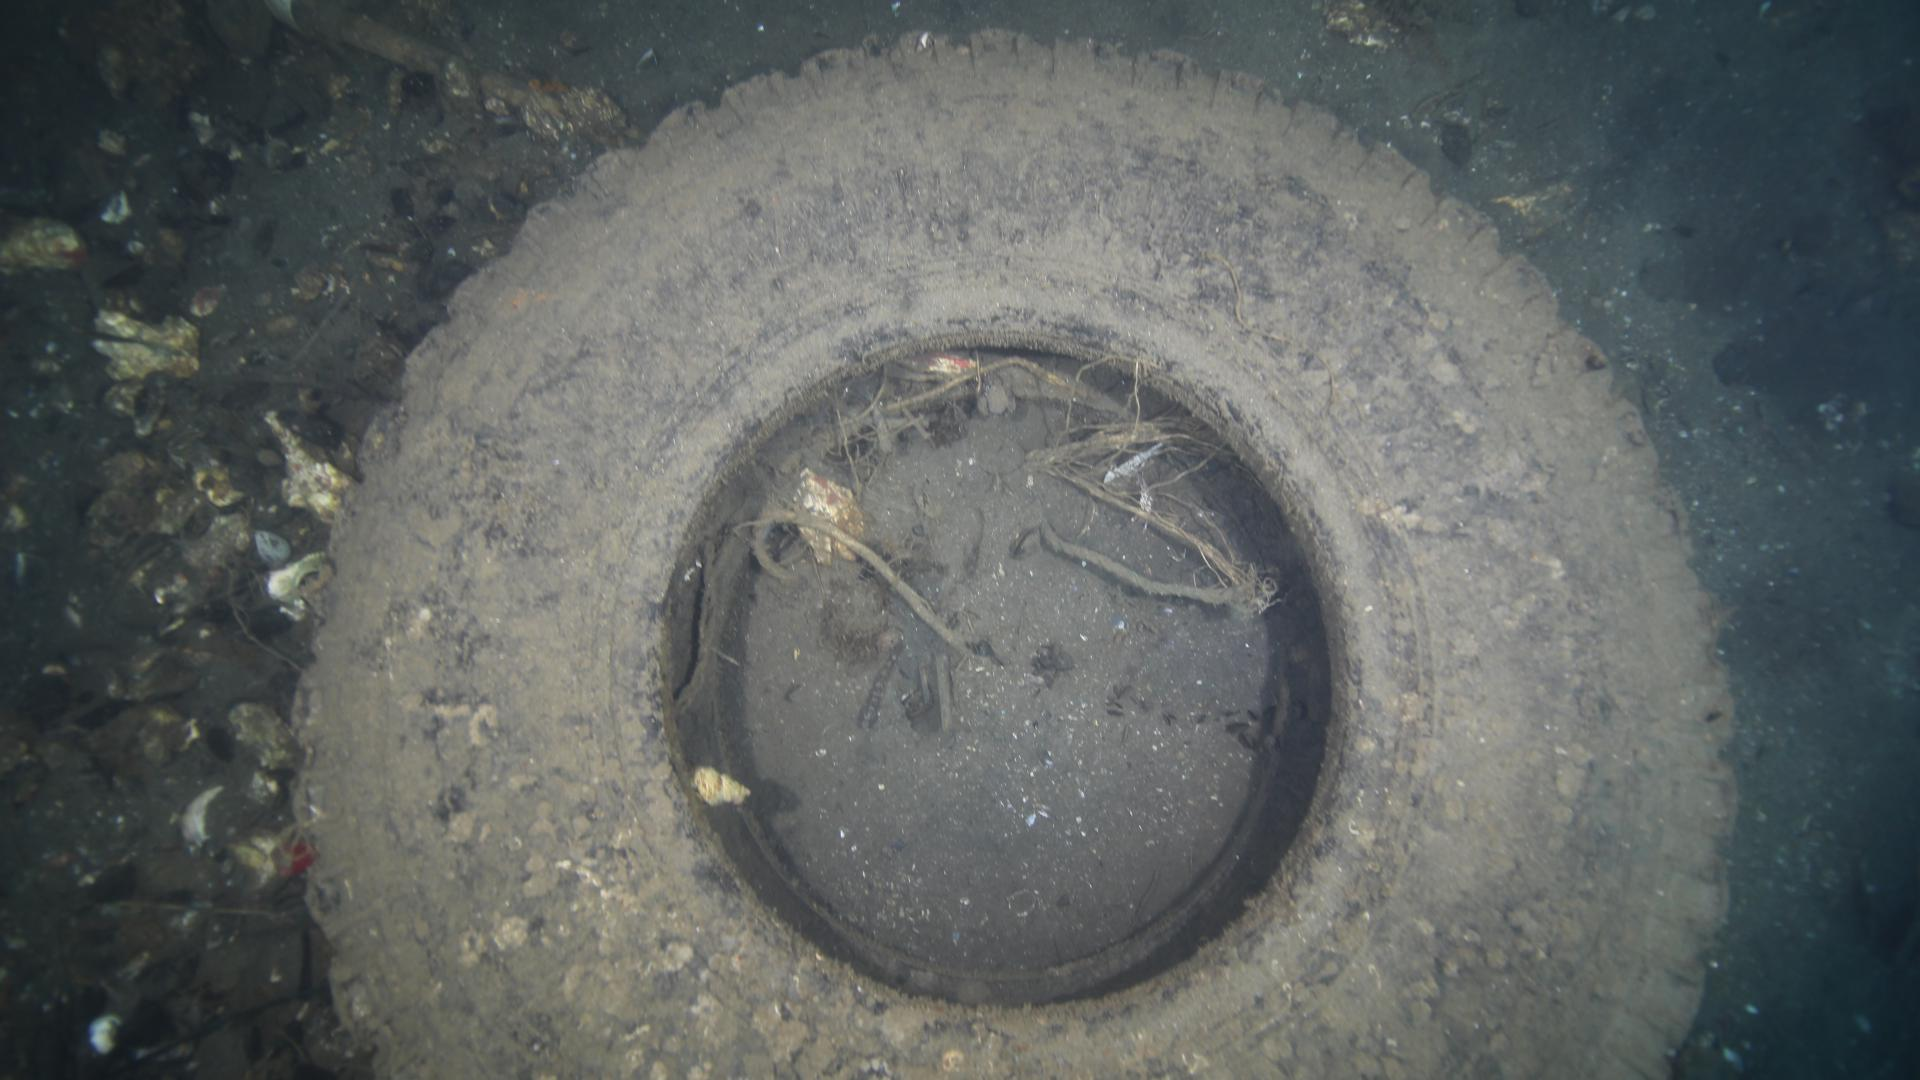tire: (287, 21, 1739, 1080)
